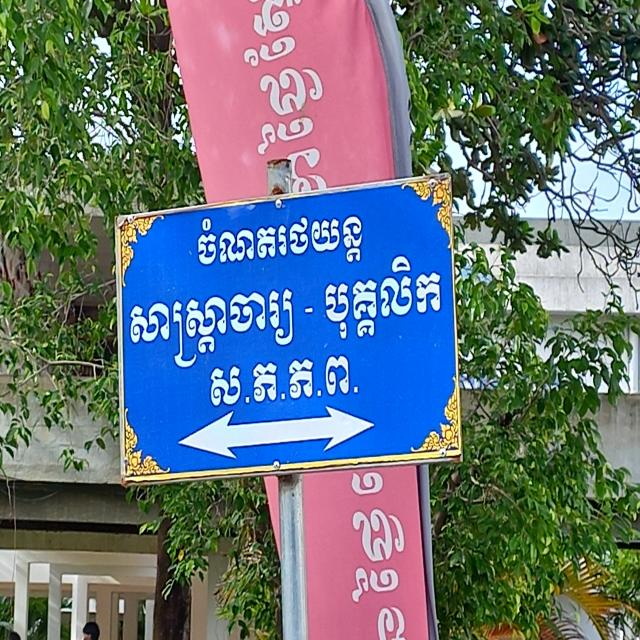Yolov11_80vkh: (128, 283, 296, 371), (231, 48, 339, 162), (193, 198, 366, 267), (321, 250, 448, 343), (333, 499, 417, 608), (208, 353, 352, 409)
